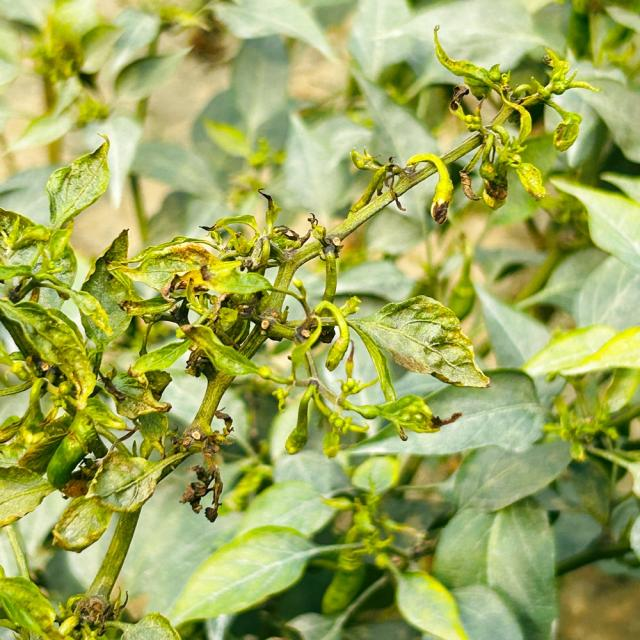Chilli_Leaf_Curl: (2, 8, 636, 638), (90, 160, 492, 524), (429, 24, 599, 211), (345, 293, 491, 390), (44, 132, 110, 230), (406, 152, 454, 224)
